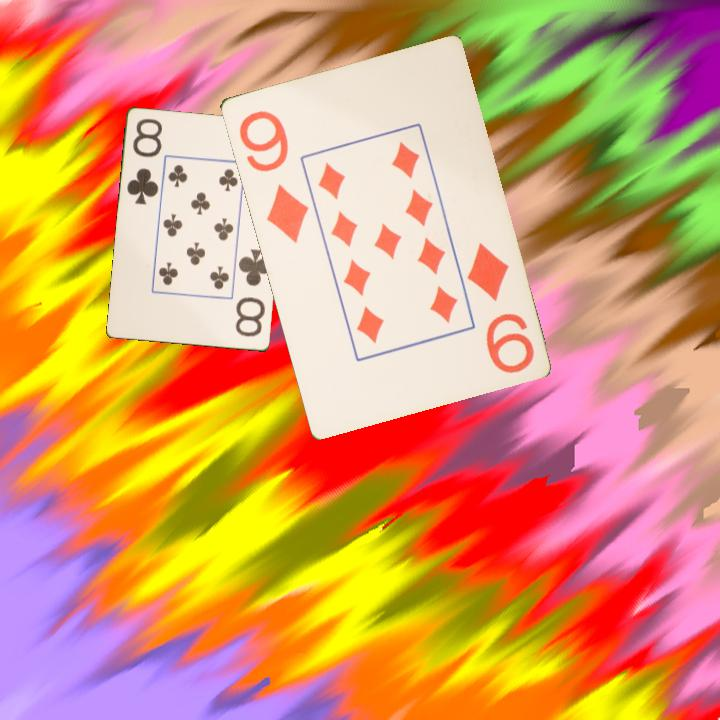8c: (232, 246, 274, 340), (124, 115, 166, 208)
9d: (234, 106, 311, 246), (462, 239, 537, 376)
